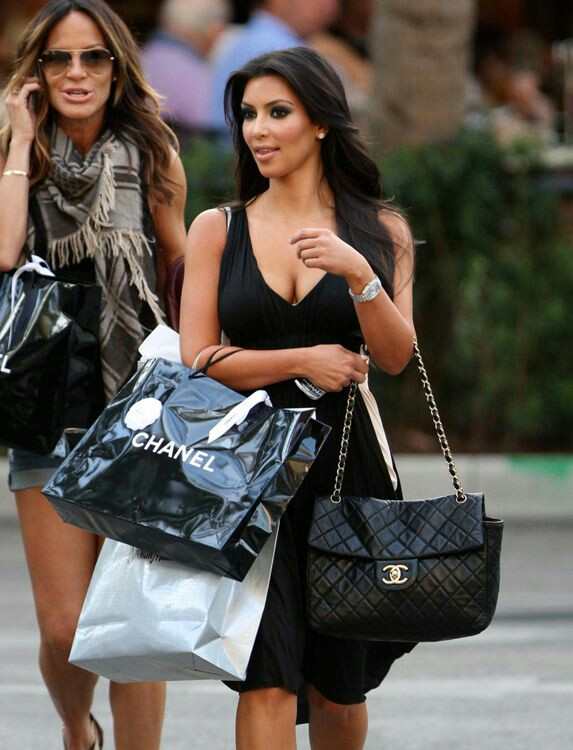channel: (301, 482, 514, 654), (371, 553, 417, 588)
